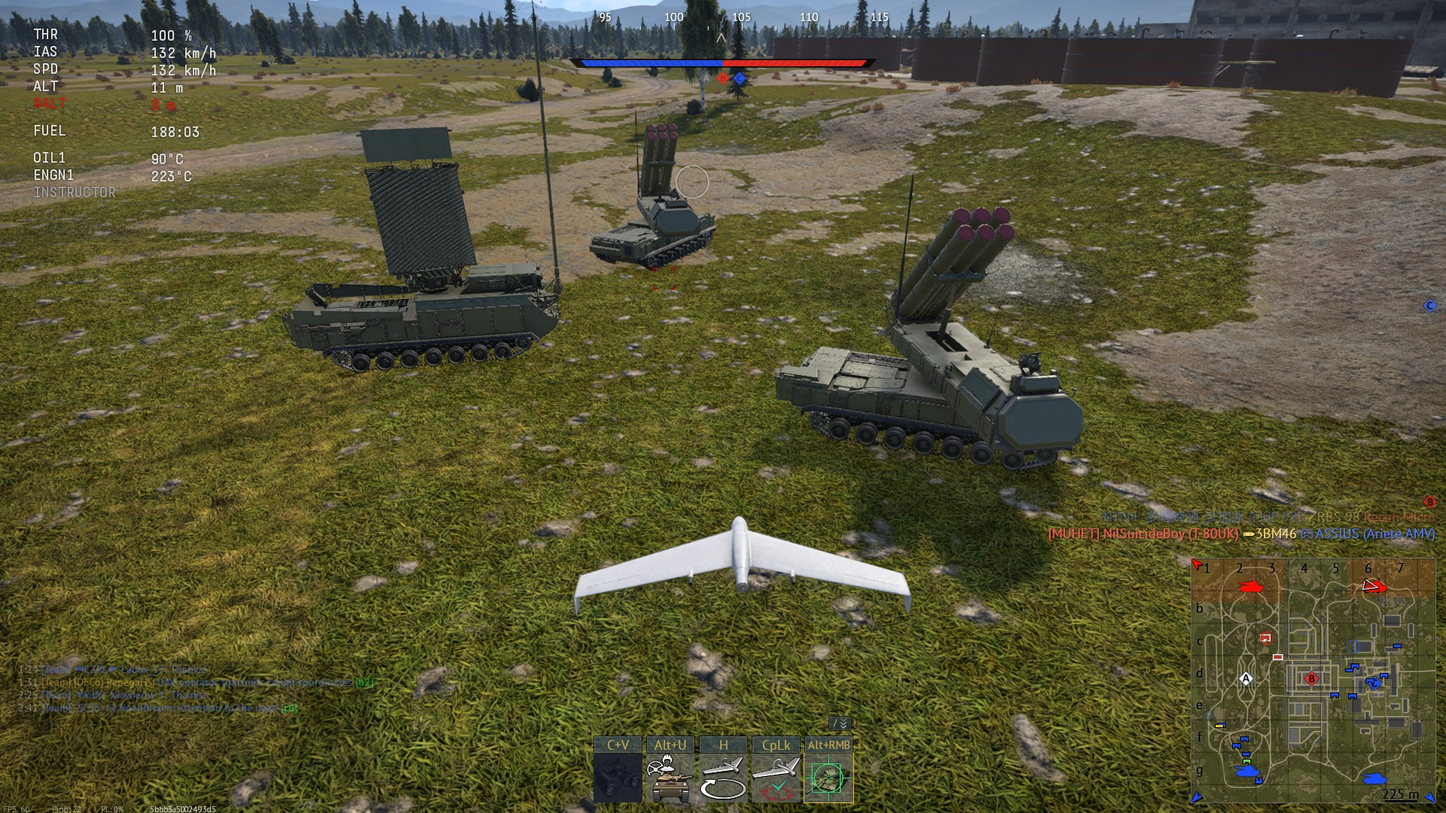BUK_TADS: (274, 123, 568, 381)
BUK_TELAR: (773, 206, 1102, 472), (588, 122, 718, 277)
